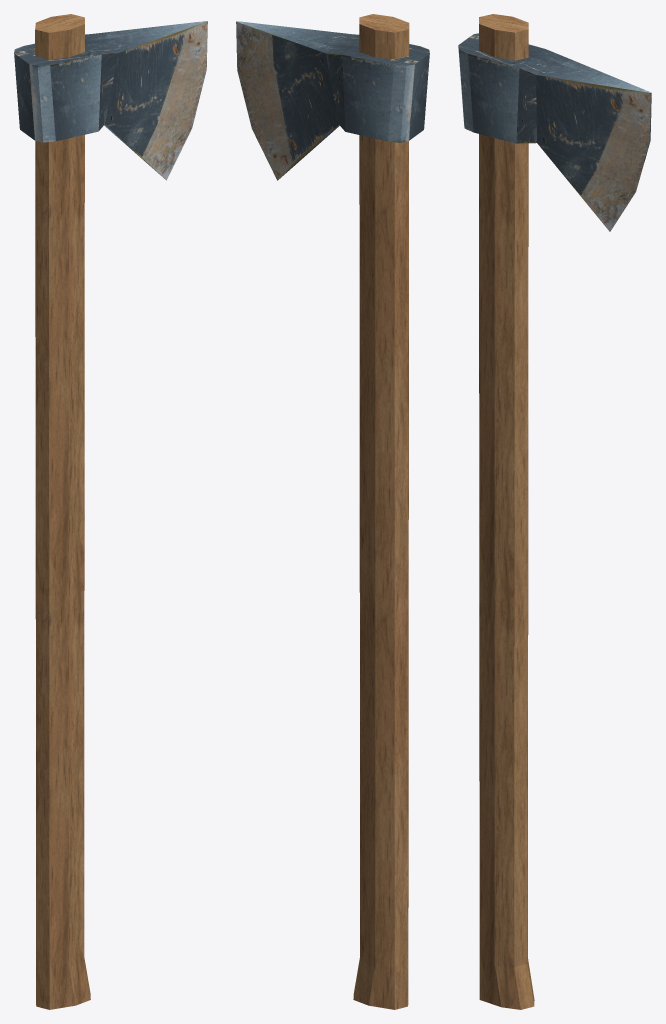
The model's file is axe.glb.
3 renders of one model, left to right at view 1: azimuth 30°, elevation 25°; view 2: azimuth 150°, elevation 25°; view 3: azimuth 330°, elevation 25°, orthographic.
Visible parts, largest first — view 1: Cube.055; view 2: Cube.055; view 3: Cube.055.
Part boxes in pixels (<box>): Cube.055: <box>14,14,207,1009</box>; Cube.055: <box>236,14,429,1009</box>; Cube.055: <box>458,14,651,1009</box>.
Bounding box in the file's own units: 0.2084 × 1.05 × 0.0509.
2 materials, 2 textured.
